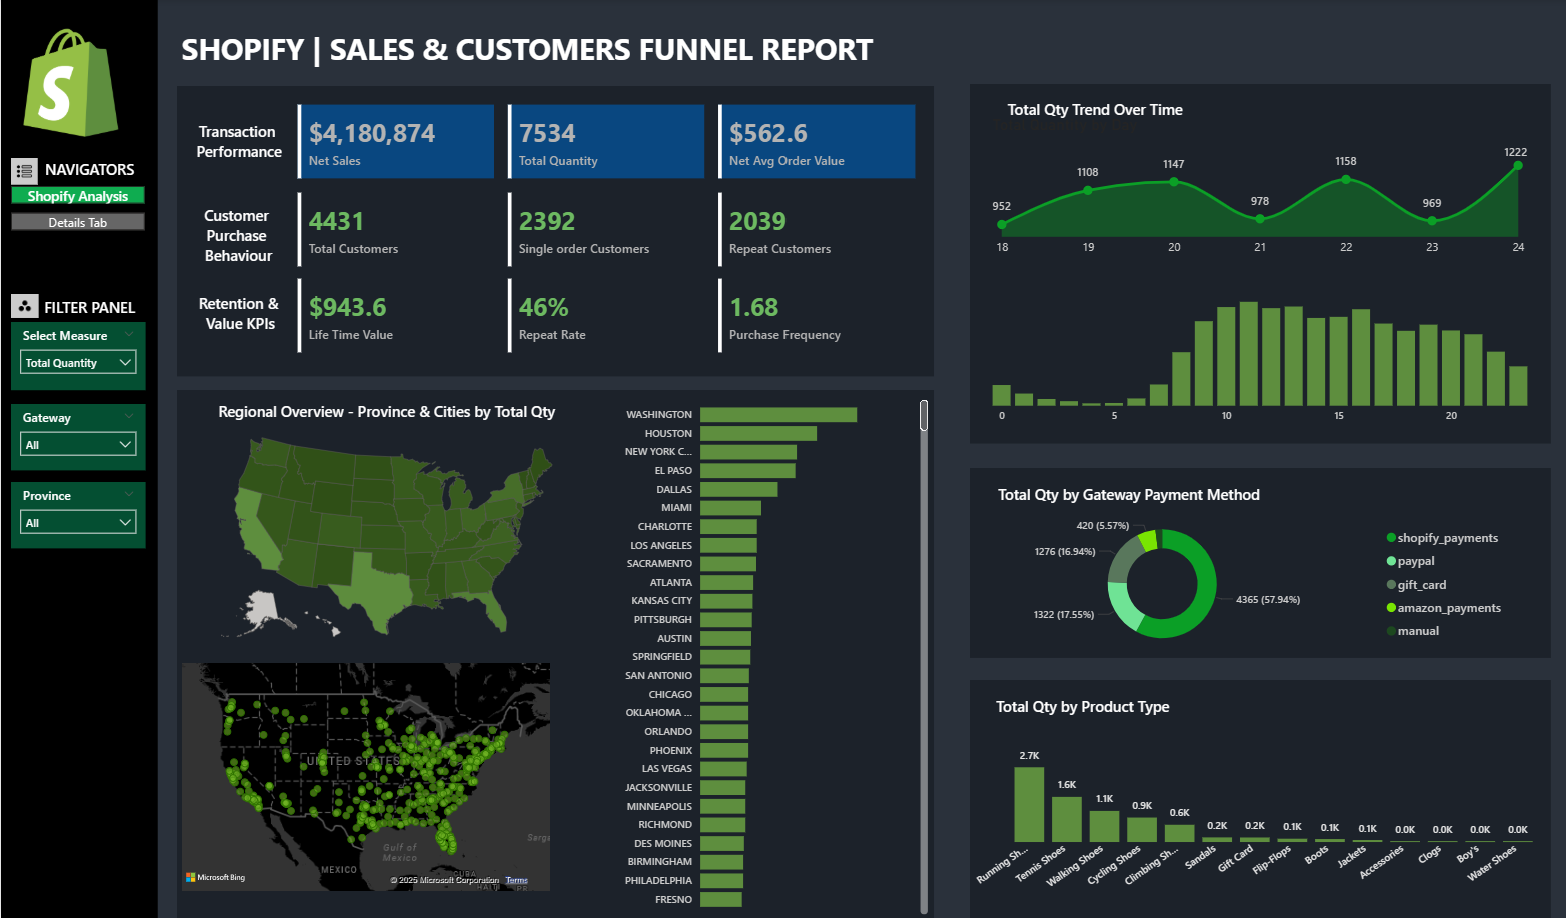

Layout of this report page (visuals, bound fields, positions):
{"tool":"powerbi","page":{"name":"Shopify Analysis","canvas":[1700,1000],"ordinal":0},"visuals":[{"type":"shape","box":[0,0,170,1000.9],"z":0},{"type":"textbox","box":[190,27.5,805,67.5],"z":1000},{"type":"shape","box":[190,96,820,315],"z":2000},{"type":"cardVisual","fields":{"Data":["shopify_sales.Net Sales","shopify_sales.Total Quantity","shopify_sales.Net Avg Order Value"]},"box":[316,110,680,90],"z":3000},{"type":"card","fields":{"Values":["shopify_sales.Customer Purchase Behaviour"]},"box":[200,208,116,92],"z":4000},{"type":"cardVisual","fields":{"Data":["shopify_sales.Total Customers","shopify_sales.Single order Customers","shopify_sales.Repeat Customers"]},"box":[316,205,680,90],"z":5000},{"type":"card","fields":{"Values":["shopify_sales.Transaction Perf"]},"box":[172,110,174,88],"z":6000},{"type":"cardVisual","fields":{"Data":["shopify_sales.Life Time Value","shopify_sales.Repeat Rate","shopify_sales.Purchase Frequency"]},"box":[316,300,680,90],"z":7000},{"type":"card","fields":{"Values":["shopify_sales.Retention & Value KPIs"]},"box":[202,296,116,92],"z":8000},{"type":"shape","box":[190,426,820,574],"z":9000},{"type":"slicer","fields":{"Values":["Select Measure.Select Measure"]},"box":[10,352,146,74],"z":10000},{"type":"shapeMap","fields":{"Category":["shopify_sales.Billing Address Province"],"Value":["shopify_sales.Net Sales"]},"box":[190,460,455,250],"z":11000},{"type":"map","fields":{"Category":["shopify_sales.Location"]},"box":[190,715,410,257.5],"z":12000},{"type":"clusteredBarChart","fields":{"Y":["shopify_sales.Total Quantity"],"Category":["shopify_sales.CITY"]},"box":[658,424,352,576],"z":13000},{"type":"card","fields":{"Values":["shopify_sales.Map Title"]},"box":[190,425,455,50],"z":14000},{"type":"shape","box":[1050,93.3,630,390],"z":15000},{"type":"areaChart","fields":{"Y":["shopify_sales.Total Quantity"],"Category":["shopify_sales.Invoice Date.Variation.Date Hierarchy.Day"]},"box":[1070,128.3,590,160],"z":16000},{"type":"columnChart","fields":{"Y":["shopify_sales.Total Quantity"],"Category":["shopify_sales.Hour"]},"box":[1070,310,590,160],"z":17000},{"type":"card","fields":{"Values":["shopify_sales.Trend Title"]},"box":[1050,96.7,271.7,50],"z":18000},{"type":"shape","box":[1050,510,630,206],"z":19000},{"type":"donutChart","fields":{"Y":["shopify_sales.Total Quantity"],"Category":["shopify_sales.Gateway"]},"box":[1010,556,630,160],"z":20000},{"type":"card","fields":{"Values":["shopify_sales.Gateway Title"]},"box":[1070,526,306,30],"z":21000},{"type":"shape","box":[1050,740,630,260],"z":22000},{"type":"columnChart","fields":{"Y":["shopify_sales.Total Quantity"],"Category":["shopify_sales.Product Type"]},"box":[1050,800,632,176],"z":23000},{"type":"card","fields":{"Values":["shopify_sales.Product Title"]},"box":[1070,755.7,205.7,30],"z":24000},{"type":"image","box":[10,27.5,130,127.5],"z":25000},{"type":"slicer","fields":{"Values":["shopify_sales.Gateway"]},"box":[10,440,146,72],"z":26000},{"type":"slicer","fields":{"Values":["shopify_sales.Billing Address Province"]},"box":[10,526,146,72],"z":27000},{"type":"pageNavigator","box":[10.8,203.9,145.3,49.9],"z":28000},{"type":"image","box":[11,322,30,26],"z":29000},{"type":"image","box":[11,173,29,29],"z":30000},{"type":"card","fields":{"Values":["shopify_sales.FILTER PANEL"]},"box":[40,324,114,28],"z":31000},{"type":"card","fields":{"Values":["shopify_sales.NAVIGATORS"]},"box":[40,172.9,114.3,28.6],"z":32000}]}

Visuals, with their boxes on the page's 1700x1000 design canvas (x1, y1, x2, y2). These are canvas units, not pixel positions in the 1566x918 screenshot, which may show the page scaled, cropped or inside an application window:
shape: (0,0,170,1001)
textbox: (190,28,995,95)
shape: (190,96,1010,411)
cardVisual - shopify_sales.Net Sales x shopify_sales.Total Quantity: (316,110,996,200)
card - shopify_sales.Customer Purchase Behaviour: (200,208,316,300)
cardVisual - shopify_sales.Total Customers x shopify_sales.Single order Customers: (316,205,996,295)
card - shopify_sales.Transaction Perf: (172,110,346,198)
cardVisual - shopify_sales.Life Time Value x shopify_sales.Repeat Rate: (316,300,996,390)
card - shopify_sales.Retention & Value KPIs: (202,296,318,388)
shape: (190,426,1010,1000)
slicer - Select Measure.Select Measure: (10,352,156,426)
shapeMap - shopify_sales.Billing Address Province x shopify_sales.Net Sales: (190,460,645,710)
map - shopify_sales.Location: (190,715,600,972)
clusteredBarChart - shopify_sales.Total Quantity x shopify_sales.CITY: (658,424,1010,1000)
card - shopify_sales.Map Title: (190,425,645,475)
shape: (1050,93,1680,483)
areaChart - shopify_sales.Total Quantity x shopify_sales.Invoice Date.Variation.Date Hierarchy.Day: (1070,128,1660,288)
columnChart - shopify_sales.Total Quantity x shopify_sales.Hour: (1070,310,1660,470)
card - shopify_sales.Trend Title: (1050,97,1322,147)
shape: (1050,510,1680,716)
donutChart - shopify_sales.Total Quantity x shopify_sales.Gateway: (1010,556,1640,716)
card - shopify_sales.Gateway Title: (1070,526,1376,556)
shape: (1050,740,1680,1000)
columnChart - shopify_sales.Total Quantity x shopify_sales.Product Type: (1050,800,1682,976)
card - shopify_sales.Product Title: (1070,756,1276,786)
image: (10,28,140,155)
slicer - shopify_sales.Gateway: (10,440,156,512)
slicer - shopify_sales.Billing Address Province: (10,526,156,598)
pageNavigator: (11,204,156,254)
image: (11,322,41,348)
image: (11,173,40,202)
card - shopify_sales.FILTER PANEL: (40,324,154,352)
card - shopify_sales.NAVIGATORS: (40,173,154,202)
